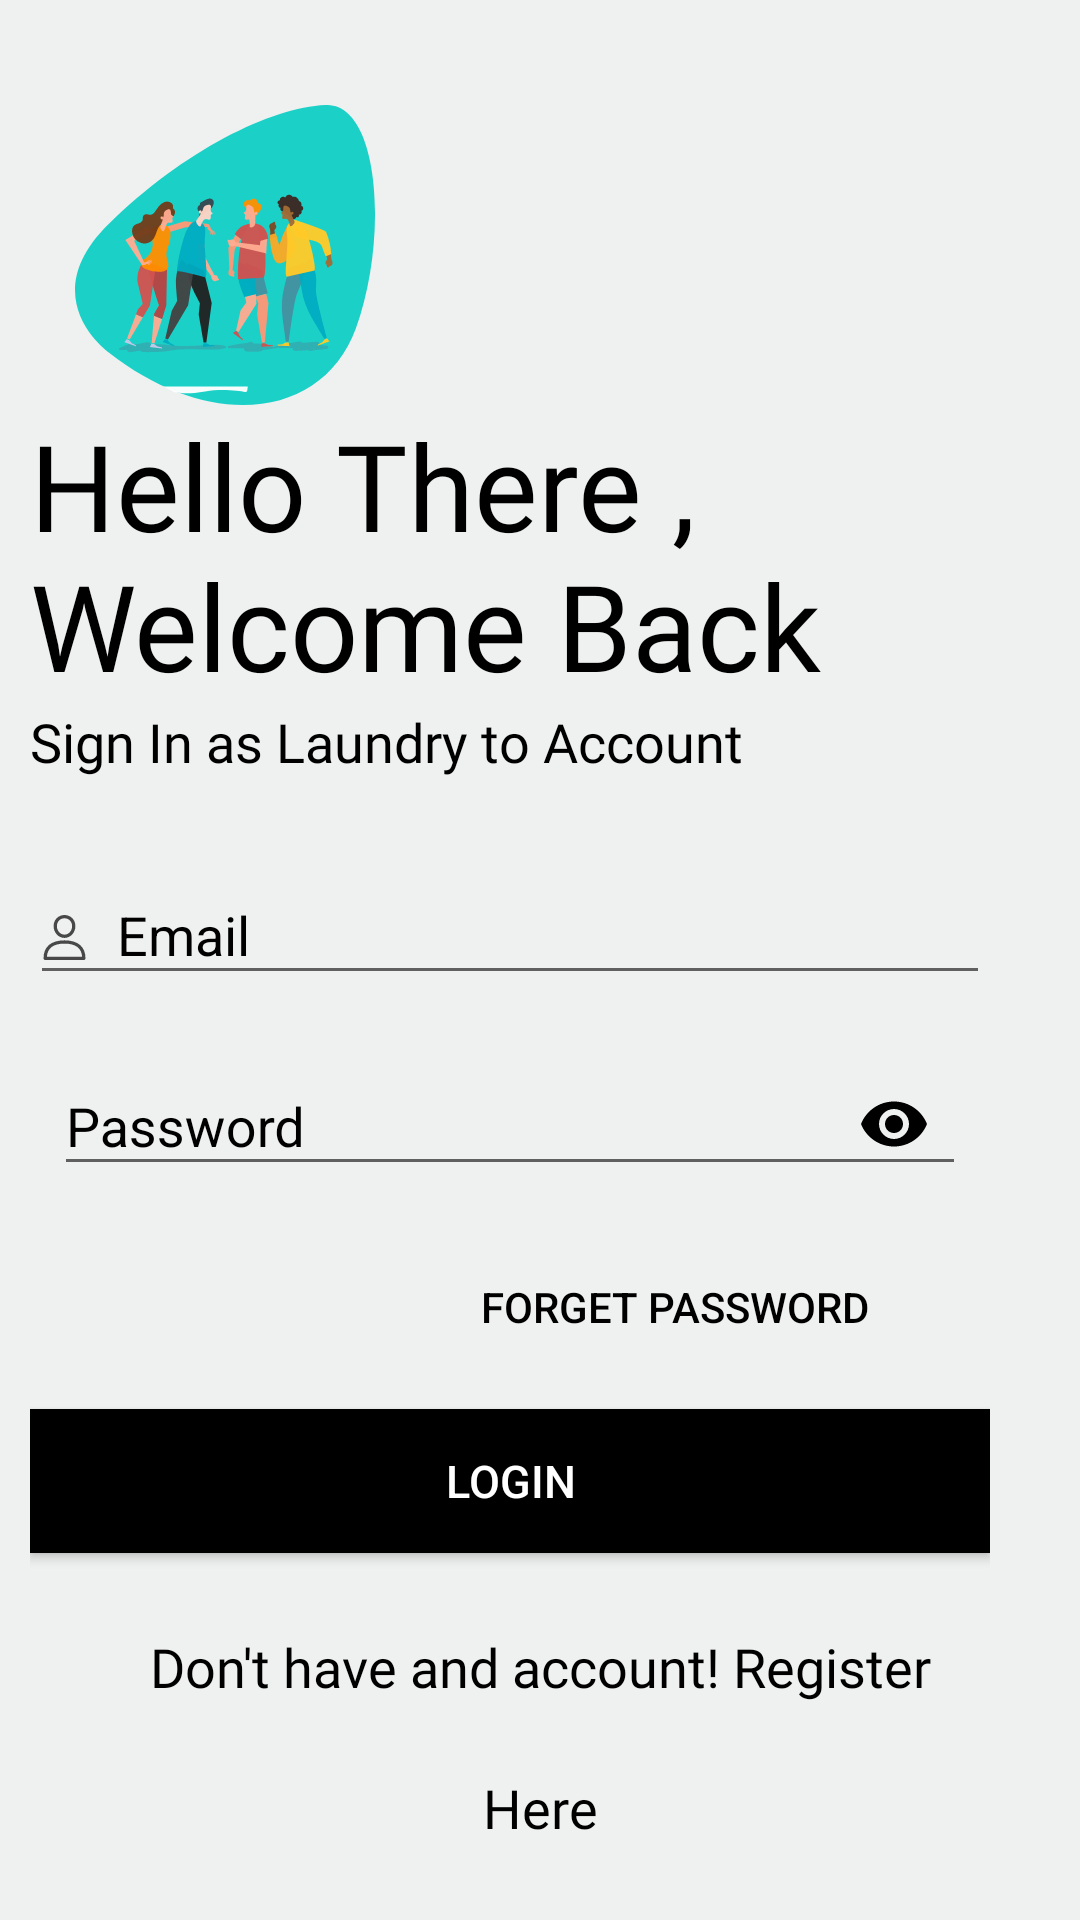

Locate icon controls on the screen. Image size 1080px×1920px, boxes as {"x1": x1, "y1": y1, "x2": x2, "y2": y2}.
register hero: {"x1": 75, "y1": 105, "x2": 375, "y2": 405}
